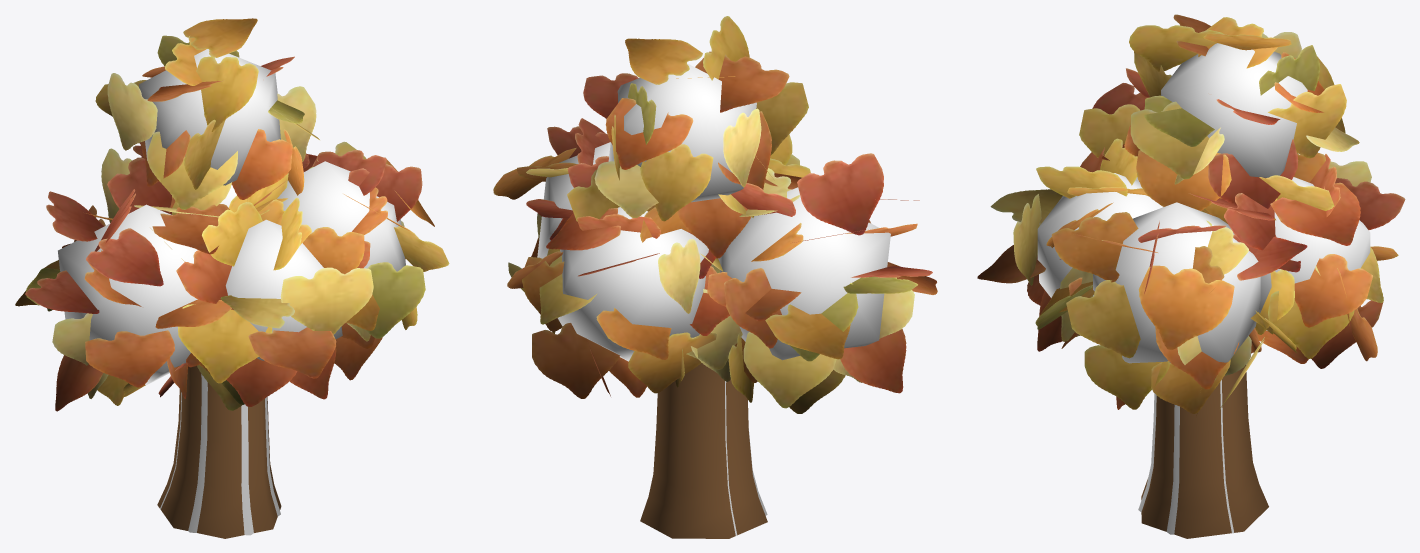
File: tree-tall-autumn.lod1.glb
The picture shows the model from 3 angles, left to right: view 1: azimuth 30°, elevation 25°; view 2: azimuth 150°, elevation 25°; view 3: azimuth 270°, elevation 25°; orthographic projection. The views are drawn at different scales.
Parts seen in each view (by area): view 1: Crown, Hull, Trunk, Stem; view 2: Crown, Hull, Trunk; view 3: Crown, Hull, Trunk, Stem.
Boxes of the visible parts, bbox=[...] form: Crown: bbox=[15, 18, 449, 411]; Hull: bbox=[58, 49, 405, 385]; Trunk: bbox=[157, 365, 281, 538]; Stem: bbox=[160, 374, 280, 535]; Crown: bbox=[493, 16, 937, 413]; Hull: bbox=[537, 63, 890, 361]; Trunk: bbox=[640, 363, 767, 538]; Crown: bbox=[977, 14, 1405, 415]; Hull: bbox=[1037, 43, 1370, 363]; Trunk: bbox=[1141, 365, 1268, 538]; Stem: bbox=[1138, 380, 1234, 534].
Size of the model in its own units: 3.2 by 3.48 by 2.76.
4 materials, 1 textured.
